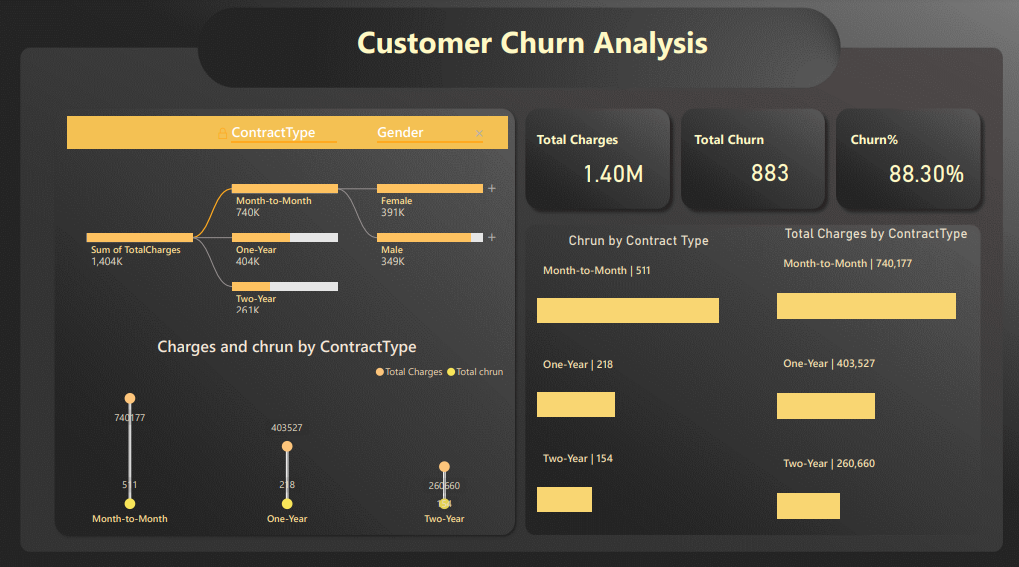

Layout of this report page (visuals, bound fields, positions):
{"tool":"powerbi","page":{"name":"Page 1","canvas":[1280,720],"ordinal":0},"visuals":[{"type":"clusteredBarChart","title":"Chrun by Contract Type","fields":{"Category":["customer_churn_data.ContractType"],"Y":["Measure.Lb_Placeholder","Measure.Total chrun"]},"box":[667.6,292,265,361.4],"z":0},{"type":"clusteredBarChart","title":"Total Charges by ContractType","fields":{"Category":["customer_churn_data.ContractType"],"Y":["Measure.Lb_Placeholder","Sum(customer_churn_data.TotalCharges)"]},"box":[968,283.5,258,379.8],"z":1000},{"type":"lineChart","title":"Charges and chrun by ContractType","fields":{"Category":["customer_churn_data.ContractType"],"Y":["Sum(customer_churn_data.TotalCharges)","Measure.Total chrun"]},"box":[80.8,419.5,559.8,248],"z":2000},{"type":"decompositionTreeVisual","fields":{"Analyze":["Sum(customer_churn_data.TotalCharges)"],"ExplainBy":["customer_churn_data.ContractType","customer_churn_data.Gender","customer_churn_data.TechSupport"]},"box":[80.8,143.1,559.8,255.1],"z":3000},{"type":"group","id":"g1","title":"Group 1","box":[864.9,160,162.6,83.8],"z":4000},{"type":"group","id":"g2","title":"Group 1","box":[1060.2,160.2,163,86.5],"z":5000},{"type":"group","id":"g3","title":"Group 1","box":[667.6,160.2,163,86.5],"z":6000},{"type":"textbox","box":[412.4,24.1,510.2,72.3],"z":7000},{"type":"card","fields":{"Values":["Measure.Total chrun"]},"box":[901.4,186.2,126.1,57.6],"z":7000,"group":"g1"},{"type":"card","fields":{"Values":["Sum(customer_churn_data.TotalCharges)"]},"box":[704.5,187.1,126.1,59.5],"z":7000,"group":"g3"},{"type":"card","fields":{"Values":["Measure.Churn%"]},"box":[1097.1,187.1,126.1,59.5],"z":7000,"group":"g2"},{"type":"textbox","box":[864.9,160,127.6,36.9],"z":8000,"group":"g1"},{"type":"textbox","box":[667.6,160.2,134.6,43.9],"z":8000,"group":"g3"},{"type":"textbox","box":[1060.2,160.2,134.6,43.9],"z":8000,"group":"g2"}]}

Visuals, with their boxes in screenshot pixels (x1, y1, x2, y2), scaled from the page's 1280x720 canvas onto the 1019x567 screenshot:
"Chrun by Contract Type" clusteredBarChart: 531,230,742,515
"Total Charges by ContractType" clusteredBarChart: 771,223,976,522
"Charges and chrun by ContractType" lineChart: 64,330,510,526
decompositionTreeVisual - Sum(customer_churn_data.TotalCharges) x customer_churn_data.ContractType: 64,113,510,314
"Group 1" group: 689,126,818,192
"Group 1" group: 844,126,974,194
"Group 1" group: 531,126,661,194
textbox: 328,19,734,76
card - Measure.Total chrun: 718,147,818,192
card - Sum(customer_churn_data.TotalCharges): 561,147,661,194
card - Measure.Churn%: 873,147,974,194
textbox: 689,126,790,155
textbox: 531,126,639,161
textbox: 844,126,951,161
